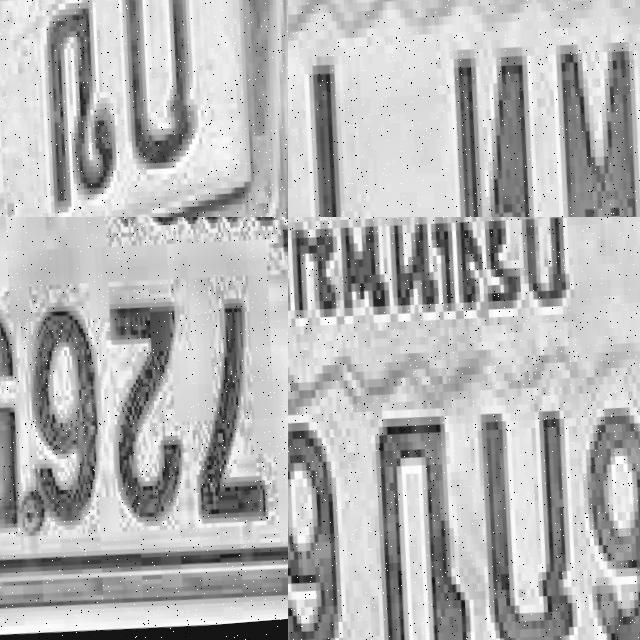license-plate: (288, 217, 640, 640), (0, 217, 288, 639), (288, 0, 640, 217), (0, 0, 288, 217)
